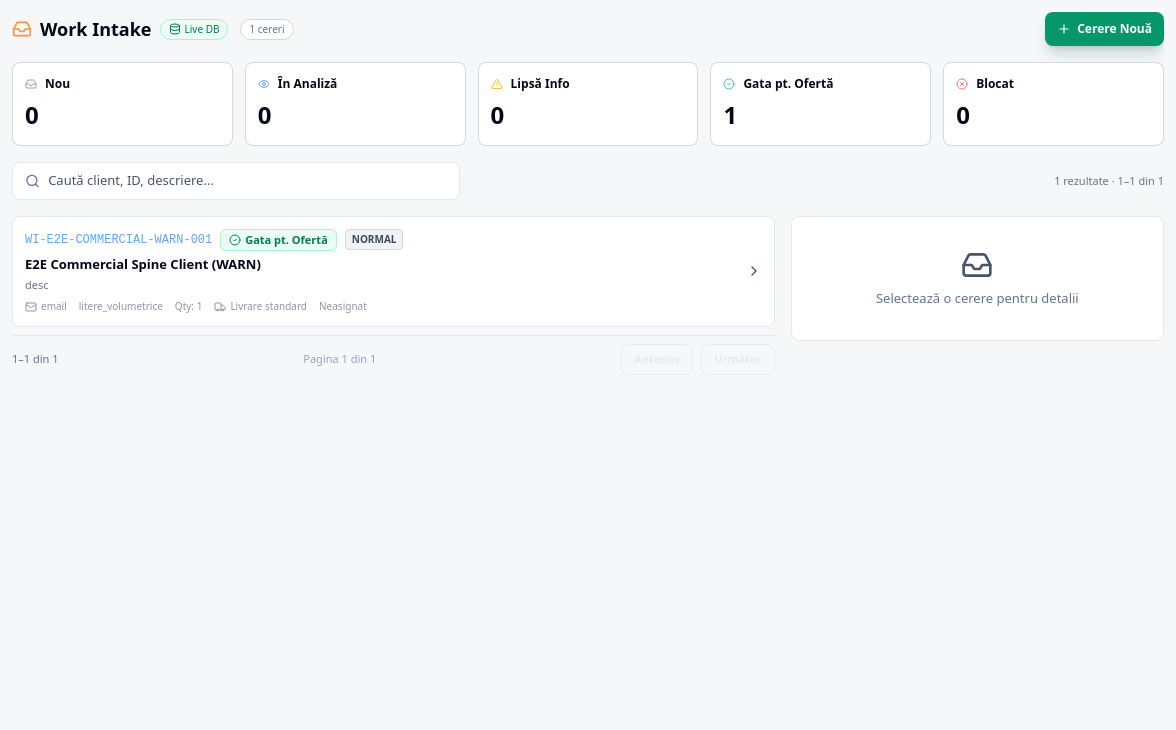
Test: WorkIntake list selection and routing › selects request on card click and shows detail panel without navigating
The image size is (1176, 730).
Expected: the text "Selectează o cerere pentru detalii" is shown, top-left (876, 288), bottom-right (1079, 306)
Click the button with test id "work-intake-row-WI-E2E-COMMERCIAL-WARN-001": {"x": 119, "y": 240} top-left (12, 216), bottom-right (775, 327)
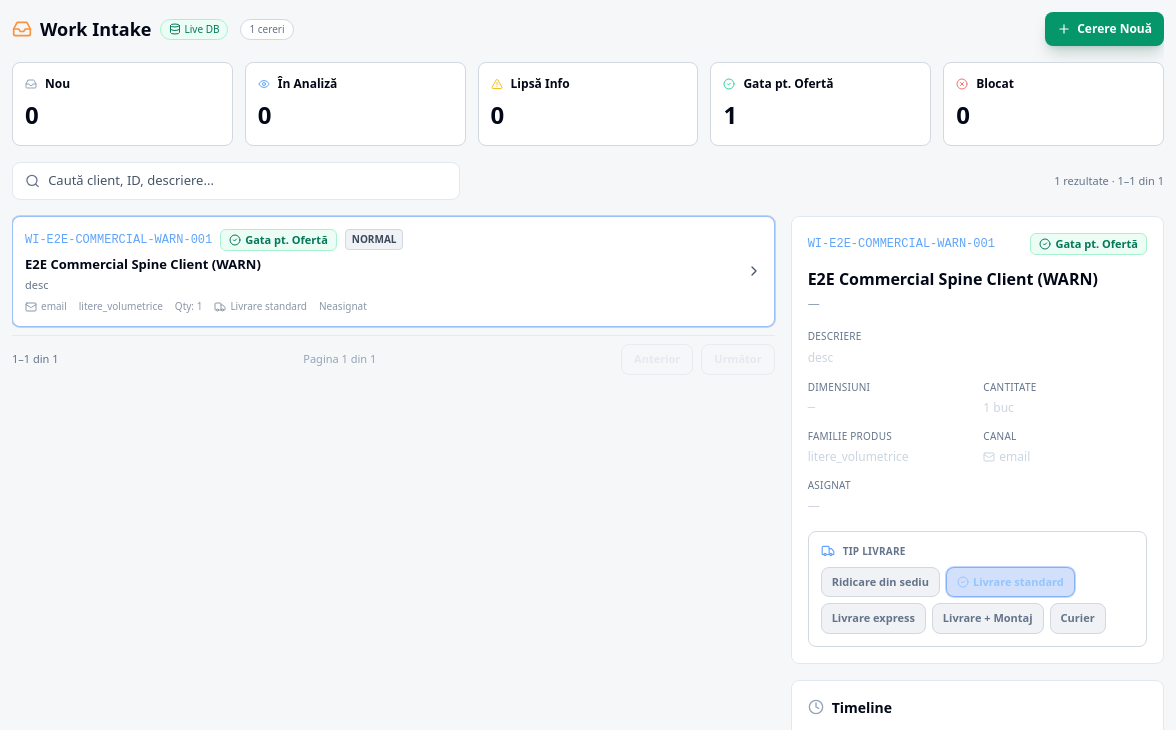
Now the heading "E2E Commercial Spine Client (WARN)" is shown, box top-left (808, 267), bottom-right (1147, 291)
Now the 2nd text "WI-E2E-COMMERCIAL-WARN-001" is shown, box top-left (808, 235), bottom-right (995, 253)
